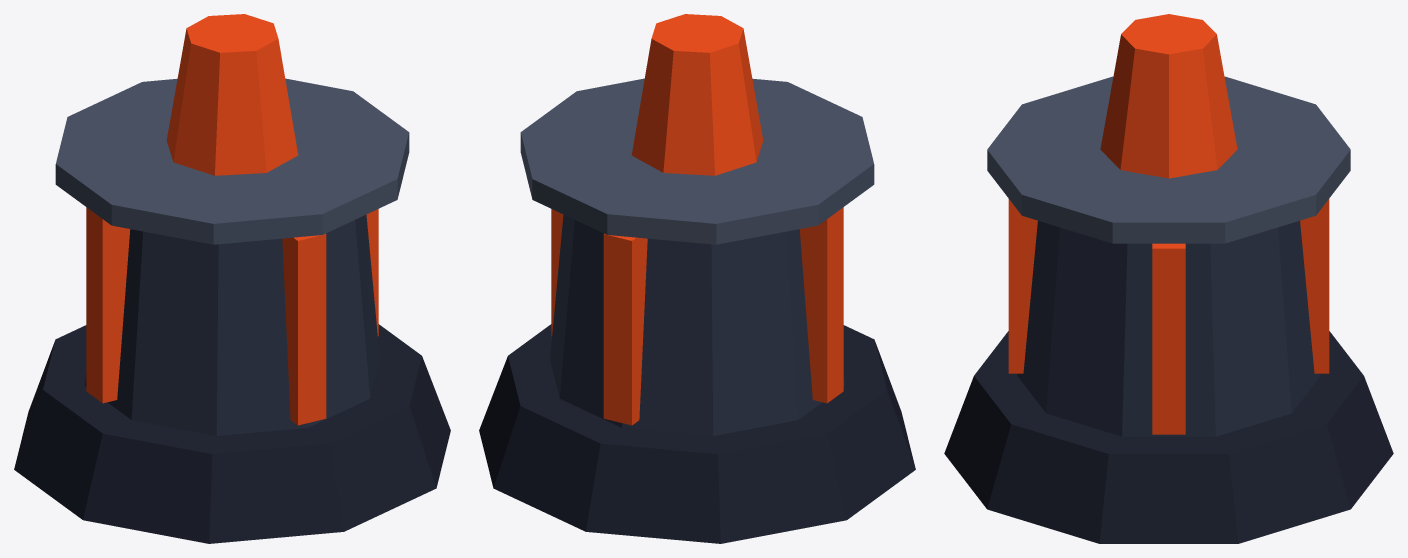
File: team_tower_orange.obj
3 renders of one model, left to right at view 1: azimuth 30°, elevation 25°; view 2: azimuth 150°, elevation 25°; view 3: azimuth 270°, elevation 25°, orthographic.
Visible parts, largest first — view 1: team_tower_orange; view 2: team_tower_orange; view 3: team_tower_orange.
Boxes of the visible parts, box(x1,y1,x2,y2) form: team_tower_orange: box(14, 14, 450, 543); team_tower_orange: box(479, 14, 915, 543); team_tower_orange: box(944, 14, 1393, 543).
Size of the model in its own units: 12.93 by 14 by 13.6.
